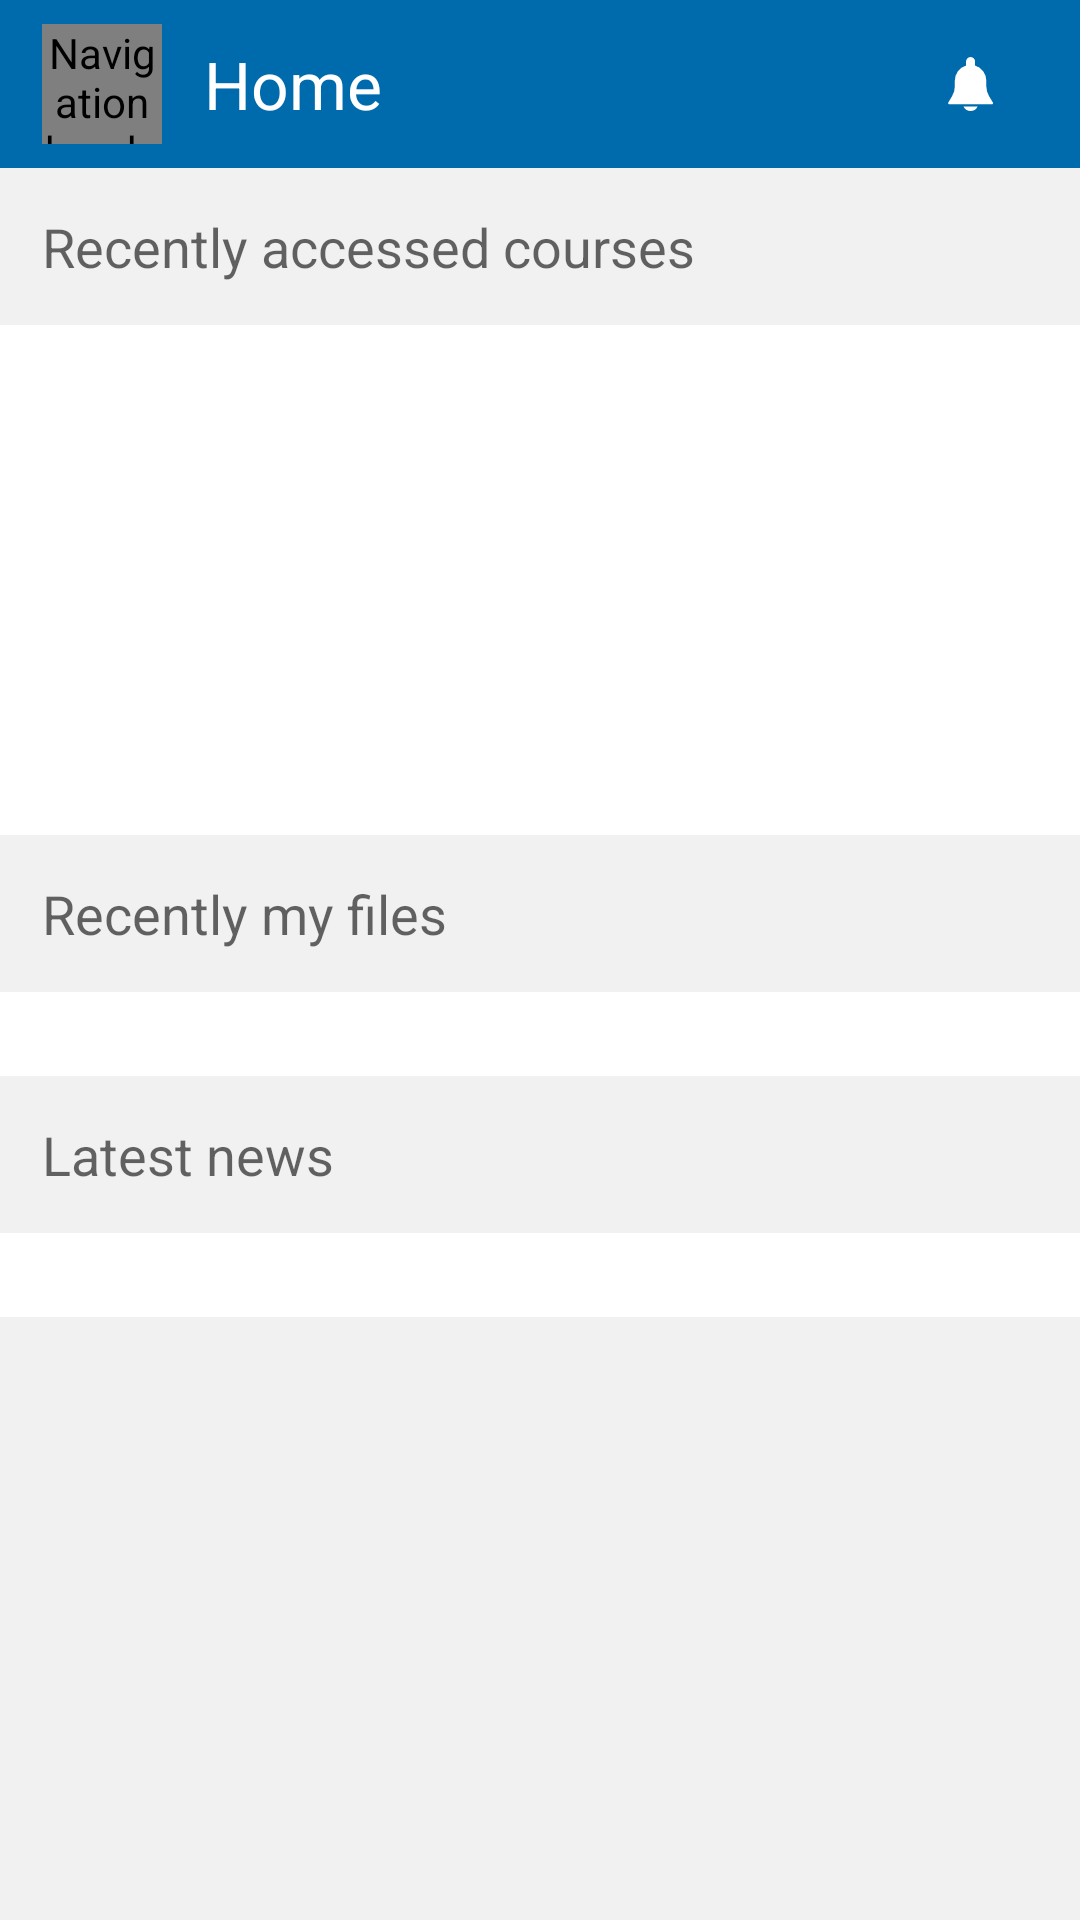

Icons on this 1080px x 1920px Android screen, each with the point to tap as (x,y):
notification: (970,84)
